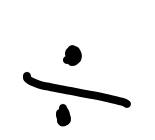div: (23, 45, 131, 127)
